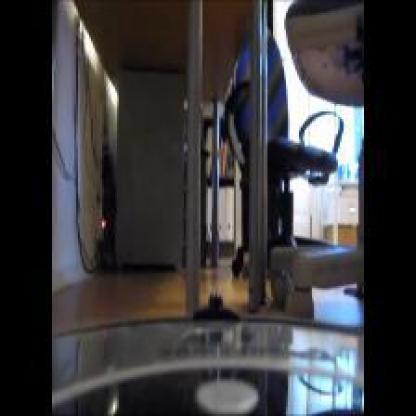other: (291, 177, 356, 240), (90, 212, 104, 239)
